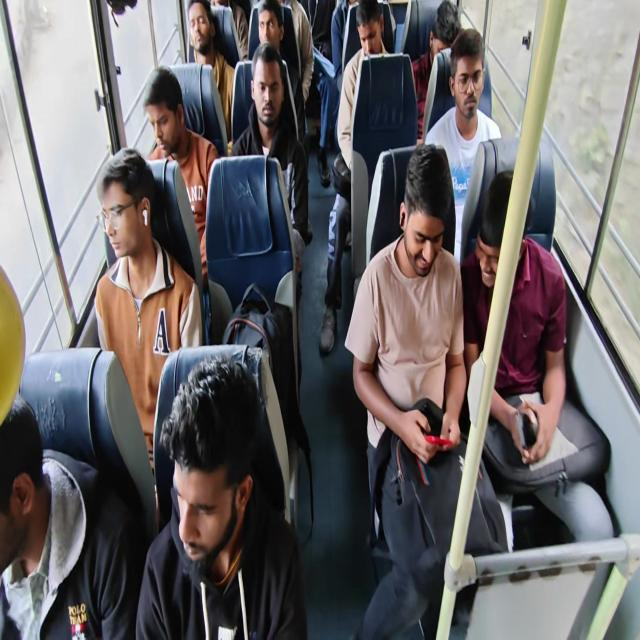person: (344, 142, 509, 638), (460, 169, 614, 557), (134, 355, 308, 639), (94, 147, 203, 490), (0, 395, 141, 639), (318, 0, 394, 355), (230, 41, 311, 302), (423, 28, 502, 260), (143, 65, 219, 289), (251, 0, 308, 145), (410, 0, 461, 142), (185, 0, 235, 142), (330, 0, 360, 95), (210, 0, 250, 61)
